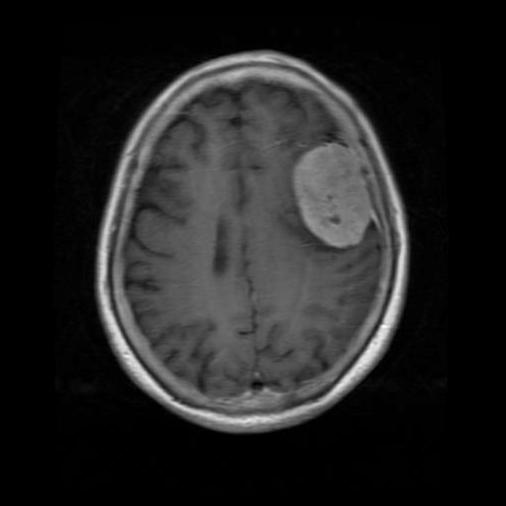Tumour-Meningioma: (277, 133, 370, 282)
